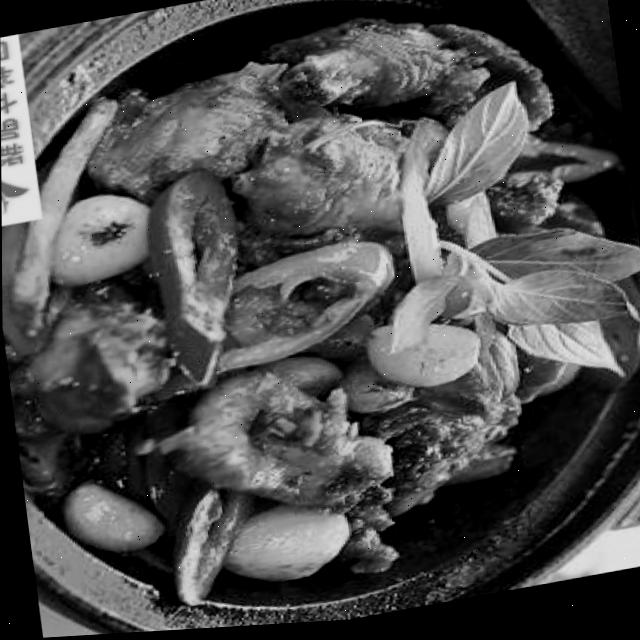鸡肉料理 含炸鸡: (0, 0, 638, 608)
